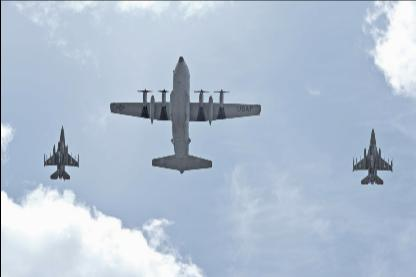Be200: (108, 55, 260, 173)
F14: (350, 126, 392, 186), (42, 125, 78, 181)
